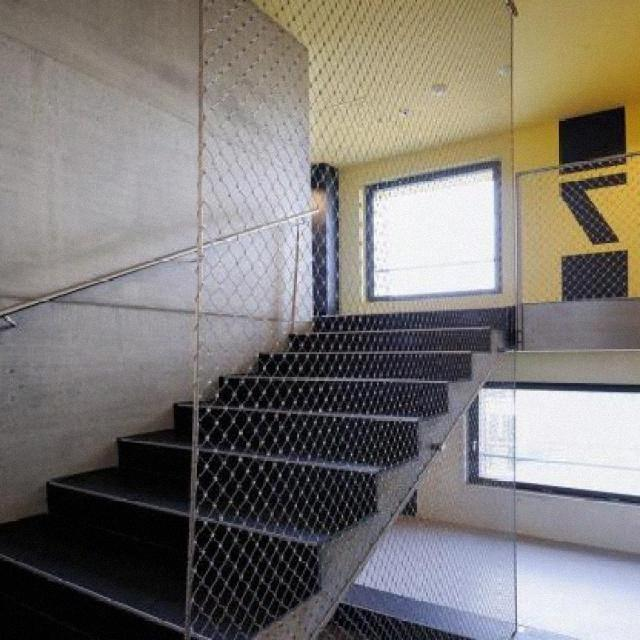stair: (1, 239, 522, 639)
